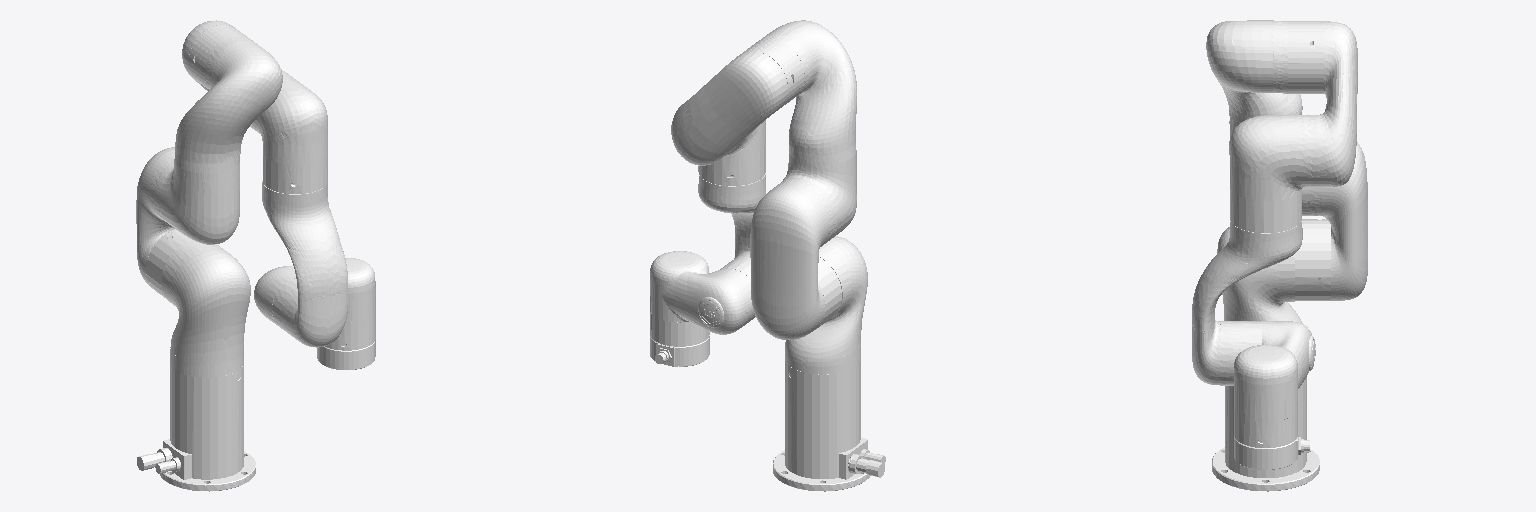
The robot description file, URDF, robot "xarm6":
<?xml version="1.0" ?>
<robot name="xarm6">
   <link name="world">
      <inertial>
         <origin xyz="0.0 0.0 0.0" rpy="0.0 0.0 0.0"/>
         <mass value="0.0"/>
         <inertia ixx="0.0" iyy="0.0" izz="0.0" ixy="0" ixz="0" iyz="0"/>
      </inertial>
   </link>
   <link name="base">
      <inertial>
         <origin xyz="0.0 0.0 0.0" rpy="0.0 0.0 0.0"/>
         <mass value="0.0"/>
         <inertia ixx="0.0" iyy="0.0" izz="0.0" ixy="0" ixz="0" iyz="0"/>
      </inertial>
   </link>
   <link name="world2base_fixed_jointbody">
      <inertial>
         <origin xyz="0.0 0.0 0.0" rpy="0.0 0.0 0.0"/>
         <mass value="0.001"/>
         <inertia ixx="1e-09" iyy="1e-09" izz="1e-09" ixy="0" ixz="0" iyz="0"/>
      </inertial>
   </link>
   <joint type="fixed" name="world2base_fixed">
      <parent link="world"/>
      <child link="world2base_fixed_jointbody"/>
      <origin xyz="0.0 0.0 0.0" rpy="0.0 0.0 0.0"/>
   </joint>
   <joint type="fixed" name="world2base_fixed_offset">
      <parent link="world2base_fixed_jointbody"/>
      <child link="base"/>
      <origin xyz="-0.0 -0.0 -0.0" rpy="0.0 0.0 0.0"/>
   </joint>
   <link name="link0">
      <inertial>
         <origin xyz="0.0 0.0 0.05" rpy="0.0 0.0 0.0"/>
         <mass value="4.0"/>
         <inertia ixx="0.4" iyy="0.4" izz="0.4" ixy="0" ixz="0" iyz="0"/>
      </inertial>
      <visual name="base">
         <origin xyz="-0.001988568020268065 0.00011251475491376964 0.06484099137569184" rpy="0.04439421331694582 0.00023003077050942622 1.5061911797633352"/>
         <geometry>
            <mesh filename="converted_base.stl"/>
         </geometry>
         <material name="white"/>
      </visual>
      <visual name="base">
         <origin xyz="-0.001988568020268065 0.00011251475491376964 0.06484099137569184" rpy="0.04439421331694582 0.00023003077050942622 1.5061911797633352"/>
         <geometry>
            <mesh filename="converted_base.stl"/>
         </geometry>
         <material name="white"/>
      </visual>
   </link>
   <link name="base2link0_fixed_jointbody">
      <inertial>
         <origin xyz="0.0 0.0 0.0" rpy="0.0 0.0 0.0"/>
         <mass value="0.001"/>
         <inertia ixx="1e-09" iyy="1e-09" izz="1e-09" ixy="0" ixz="0" iyz="0"/>
      </inertial>
   </link>
   <joint type="fixed" name="base2link0_fixed">
      <parent link="base"/>
      <child link="base2link0_fixed_jointbody"/>
      <origin xyz="0.0 0.0 0.0" rpy="0.0 0.0 0.0"/>
   </joint>
   <joint type="fixed" name="base2link0_fixed_offset">
      <parent link="base2link0_fixed_jointbody"/>
      <child link="link0"/>
      <origin xyz="-0.0 -0.0 -0.0" rpy="0.0 0.0 0.0"/>
   </joint>
   <link name="link1">
      <inertial>
         <origin xyz="-0.002 0.02692 -0.01332" rpy="0.3631509145110744 -0.018820312974206166 0.05206178979220674"/>
         <mass value="2.16"/>
         <inertia ixx="0.00539487" iyy="0.00519906" izz="0.00281397" ixy="0" ixz="0" iyz="0"/>
      </inertial>
      <visual name="link1">
         <origin xyz="-0.00013218954812539433 0.007464197279856433 -0.02711553977556827" rpy="-0.3336230093083168 0.0034678881741270207 -0.002737431020260944"/>
         <geometry>
            <mesh filename="converted_link1.stl"/>
         </geometry>
         <material name="white"/>
      </visual>
      <visual name="link1">
         <origin xyz="-0.00013218954812539433 0.007464197279856433 -0.02711553977556827" rpy="-0.3336230093083168 0.0034678881741270207 -0.002737431020260944"/>
         <geometry>
            <mesh filename="converted_link1.stl"/>
         </geometry>
         <material name="white"/>
      </visual>
   </link>
   <link name="joint1_jointbody">
      <inertial>
         <origin xyz="0.0 0.0 0.0" rpy="0.0 0.0 0.0"/>
         <mass value="0.001"/>
         <inertia ixx="1e-09" iyy="1e-09" izz="1e-09" ixy="0" ixz="0" iyz="0"/>
      </inertial>
   </link>
   <joint type="revolute" name="joint1">
      <parent link="link0"/>
      <child link="joint1_jointbody"/>
      <origin xyz="0.0 0.0 0.267" rpy="0.0 0.0 0.0"/>
      <axis xyz="0.0 0.0 1.0"/>
      <limit lower="-0.10966235302838252" upper="0.10966235302838252" effort="100" velocity="100"/>
   </joint>
   <joint type="fixed" name="joint1_offset">
      <parent link="joint1_jointbody"/>
      <child link="link1"/>
      <origin xyz="-0.0 -0.0 -0.0" rpy="0.0 0.0 0.0"/>
   </joint>
   <link name="link2">
      <inertial>
         <origin xyz="0.03531 -0.21398 0.03386" rpy="1.3158572697108033 0.6206151550739589 -0.33896923320256633"/>
         <mass value="1.71"/>
         <inertia ixx="0.017867" iyy="0.017867" izz="0.017867" ixy="0" ixz="0" iyz="0"/>
      </inertial>
      <visual name="link2">
         <origin xyz="0.014875566187991445 -0.16194855468132002 0.02964404368210932" rpy="1.9174384122134032 0.3390205710115355 0.2968760087267537"/>
         <geometry>
            <mesh filename="converted_link2.stl"/>
         </geometry>
         <material name="white"/>
      </visual>
      <visual name="link2">
         <origin xyz="0.014875566187991445 -0.16194855468132002 0.02964404368210932" rpy="1.9174384122134032 0.3390205710115355 0.2968760087267537"/>
         <geometry>
            <mesh filename="converted_link2.stl"/>
         </geometry>
         <material name="white"/>
      </visual>
   </link>
   <link name="joint2_jointbody">
      <inertial>
         <origin xyz="0.0 0.0 0.0" rpy="0.0 0.0 0.0"/>
         <mass value="0.001"/>
         <inertia ixx="1e-09" iyy="1e-09" izz="1e-09" ixy="0" ixz="0" iyz="0"/>
      </inertial>
   </link>
   <joint type="revolute" name="joint2">
      <parent link="link1"/>
      <child link="joint2_jointbody"/>
      <origin xyz="0.0 0.0 0.0" rpy="-1.5708005694372709 0.0 0.0"/>
      <axis xyz="0.0 0.0 1.0"/>
      <limit lower="-0.03593632929856325" upper="0.03655417585376924" effort="100" velocity="100"/>
   </joint>
   <joint type="fixed" name="joint2_offset">
      <parent link="joint2_jointbody"/>
      <child link="link2"/>
      <origin xyz="-0.0 -0.0 -0.0" rpy="0.0 0.0 0.0"/>
   </joint>
   <link name="link3">
      <inertial>
         <origin xyz="0.06781 0.10749 0.01457" rpy="-2.1198869036992574 -0.6527088677368611 -2.5005766463554386"/>
         <mass value="1.384"/>
         <inertia ixx="0.004543" iyy="0.004543" izz="0.004543" ixy="0" ixz="0" iyz="0"/>
      </inertial>
      <visual name="link3">
         <origin xyz="0.05915374366666802 0.07651418456626077 0.04021116008138051" rpy="0.9997568989372843 0.1766060258401485 -0.6619722856298305"/>
         <geometry>
            <mesh filename="converted_link3.stl"/>
         </geometry>
         <material name="white"/>
      </visual>
      <visual name="link3">
         <origin xyz="0.05915374366666802 0.07651418456626077 0.04021116008138051" rpy="0.9997568989372843 0.1766060258401485 -0.6619722856298305"/>
         <geometry>
            <mesh filename="converted_link3.stl"/>
         </geometry>
         <material name="white"/>
      </visual>
   </link>
   <link name="joint3_jointbody">
      <inertial>
         <origin xyz="0.0 0.0 0.0" rpy="0.0 0.0 0.0"/>
         <mass value="0.001"/>
         <inertia ixx="1e-09" iyy="1e-09" izz="1e-09" ixy="0" ixz="0" iyz="0"/>
      </inertial>
   </link>
   <joint type="revolute" name="joint3">
      <parent link="link2"/>
      <child link="joint3_jointbody"/>
      <origin xyz="0.0535 -0.2845 0.0" rpy="0.0 0.0 0.0"/>
      <axis xyz="0.0 0.0 1.0"/>
      <limit lower="-0.06853907972581733" upper="0.0033506830979787143" effort="100" velocity="100"/>
   </joint>
   <joint type="fixed" name="joint3_offset">
      <parent link="joint3_jointbody"/>
      <child link="link3"/>
      <origin xyz="-0.0 -0.0 -0.0" rpy="0.0 0.0 0.0"/>
   </joint>
   <link name="link4">
      <inertial>
         <origin xyz="-0.00021 0.02578 -0.02538" rpy="0.14913014384183226 -0.025522327167754044 0.15638006704745994"/>
         <mass value="1.115"/>
         <inertia ixx="0.00440091" iyy="0.00406855" izz="0.00103407" ixy="0" ixz="0" iyz="0"/>
      </inertial>
      <visual name="link4">
         <origin xyz="-0.0001933115420370148 0.031599603176915084 -0.07229682669267906" rpy="-0.2899363380198844 0.004123601154868206 0.015988586424917905"/>
         <geometry>
            <mesh filename="converted_link4.stl"/>
         </geometry>
         <material name="white"/>
      </visual>
      <visual name="link4">
         <origin xyz="-0.0001933115420370148 0.031599603176915084 -0.07229682669267906" rpy="-0.2899363380198844 0.004123601154868206 0.015988586424917905"/>
         <geometry>
            <mesh filename="converted_link4.stl"/>
         </geometry>
         <material name="white"/>
      </visual>
   </link>
   <link name="joint4_jointbody">
      <inertial>
         <origin xyz="0.0 0.0 0.0" rpy="0.0 0.0 0.0"/>
         <mass value="0.001"/>
         <inertia ixx="1e-09" iyy="1e-09" izz="1e-09" ixy="0" ixz="0" iyz="0"/>
      </inertial>
   </link>
   <joint type="revolute" name="joint4">
      <parent link="link3"/>
      <child link="joint4_jointbody"/>
      <origin xyz="0.0775 0.3425 0.0" rpy="-1.5708005694372709 0.0 0.0"/>
      <axis xyz="0.0 0.0 1.0"/>
      <limit lower="-0.10966235302838252" upper="0.10966235302838252" effort="100" velocity="100"/>
   </joint>
   <joint type="fixed" name="joint4_offset">
      <parent link="joint4_jointbody"/>
      <child link="link4"/>
      <origin xyz="-0.0 -0.0 -0.0" rpy="0.0 0.0 0.0"/>
   </joint>
   <link name="link5">
      <inertial>
         <origin xyz="0.05428 0.01781 0.00543" rpy="-1.2155992243948677 -1.005984104795635 -2.211171480165424"/>
         <mass value="1.275"/>
         <inertia ixx="0.00289757" iyy="0.0023276" izz="0.000951789" ixy="0" ixz="0" iyz="0"/>
      </inertial>
      <visual name="link5">
         <origin xyz="0.048892960928717207 0.011180520389591274 0.009056193467818132" rpy="-2.938968983231587 -1.2804430518525276 0.09467892860533289"/>
         <geometry>
            <mesh filename="converted_link5.stl"/>
         </geometry>
         <material name="white"/>
      </visual>
      <visual name="link5">
         <origin xyz="0.048892960928717207 0.011180520389591274 0.009056193467818132" rpy="-2.938968983231587 -1.2804430518525276 0.09467892860533289"/>
         <geometry>
            <mesh filename="converted_link5.stl"/>
         </geometry>
         <material name="white"/>
      </visual>
   </link>
   <link name="joint5_jointbody">
      <inertial>
         <origin xyz="0.0 0.0 0.0" rpy="0.0 0.0 0.0"/>
         <mass value="0.001"/>
         <inertia ixx="1e-09" iyy="1e-09" izz="1e-09" ixy="0" ixz="0" iyz="0"/>
      </inertial>
   </link>
   <joint type="revolute" name="joint5">
      <parent link="link4"/>
      <child link="joint5_jointbody"/>
      <origin xyz="0.0 0.0 0.0" rpy="1.5708005694372709 0.0 0.0"/>
      <axis xyz="0.0 0.0 1.0"/>
      <limit lower="-0.0295479006374884" upper="0.05483108924772866" effort="100" velocity="100"/>
   </joint>
   <joint type="fixed" name="joint5_offset">
      <parent link="joint5_jointbody"/>
      <child link="link5"/>
      <origin xyz="-0.0 -0.0 -0.0" rpy="0.0 0.0 0.0"/>
   </joint>
   <link name="link6">
      <inertial>
         <origin xyz="0.0 0.00064 -0.00952" rpy="3.141592653589793 -1.5707963267948963 0.0"/>
         <mass value="0.1096"/>
         <inertia ixx="7.9715e-05" iyy="4.8111e-05" izz="4.5293e-05" ixy="0" ixz="0" iyz="0"/>
      </inertial>
      <visual name="link6">
         <origin xyz="3.7439145434449306e-05 -0.0011527370991205998 -0.013456044378598256" rpy="-2.8536856173312444 -1.5674605859929096 -1.8720961229544513"/>
         <geometry>
            <mesh filename="converted_link6.stl"/>
         </geometry>
         <material name="white"/>
      </visual>
      <visual name="link6">
         <origin xyz="3.7439145434449306e-05 -0.0011527370991205998 -0.013456044378598256" rpy="-2.8536856173312444 -1.5674605859929096 -1.8720961229544513"/>
         <geometry>
            <mesh filename="converted_link6.stl"/>
         </geometry>
         <material name="white"/>
      </visual>
   </link>
   <link name="joint6_jointbody">
      <inertial>
         <origin xyz="0.0 0.0 0.0" rpy="0.0 0.0 0.0"/>
         <mass value="0.001"/>
         <inertia ixx="1e-09" iyy="1e-09" izz="1e-09" ixy="0" ixz="0" iyz="0"/>
      </inertial>
   </link>
   <joint type="revolute" name="joint6">
      <parent link="link5"/>
      <child link="joint6_jointbody"/>
      <origin xyz="0.076 0.097 0.0" rpy="-1.5708005694372709 0.0 0.0"/>
      <axis xyz="0.0 0.0 1.0"/>
      <limit lower="-0.10966235302838252" upper="0.10966235302838252" effort="100" velocity="100"/>
   </joint>
   <joint type="fixed" name="joint6_offset">
      <parent link="joint6_jointbody"/>
      <child link="link6"/>
      <origin xyz="-0.0 -0.0 -0.0" rpy="0.0 0.0 0.0"/>
   </joint>
   <link name="right_hand">
      <inertial>
         <origin xyz="0.0 0.0 0.0" rpy="0.0 0.0 0.0"/>
         <mass value="0.0"/>
         <inertia ixx="0.0" iyy="0.0" izz="0.0" ixy="0" ixz="0" iyz="0"/>
      </inertial>
   </link>
   <link name="link62right_hand_fixed_jointbody">
      <inertial>
         <origin xyz="0.0 0.0 0.0" rpy="0.0 0.0 0.0"/>
         <mass value="0.001"/>
         <inertia ixx="1e-09" iyy="1e-09" izz="1e-09" ixy="0" ixz="0" iyz="0"/>
      </inertial>
   </link>
   <joint type="fixed" name="link62right_hand_fixed">
      <parent link="link6"/>
      <child link="link62right_hand_fixed_jointbody"/>
      <origin xyz="0.0 0.0 0.0" rpy="0.0 0.0 0.0"/>
   </joint>
   <joint type="fixed" name="link62right_hand_fixed_offset">
      <parent link="link62right_hand_fixed_jointbody"/>
      <child link="right_hand"/>
      <origin xyz="-0.0 -0.0 -0.0" rpy="0.0 0.0 0.0"/>
   </joint>
   <material name="white">
      <color rgba="1 1 1 1"/>
   </material>
</robot>

--- What the picture shows (computed from the rendered views, not written in the file) ---
Views: 3 orthographic renders of the robot side by side, from view 1: azimuth 30°, elevation 25°; view 2: azimuth 150°, elevation 25°; view 3: azimuth 270°, elevation 25°.
Robot: xarm6 — 19 links, 18 joints (6 revolute, 12 fixed); root link world; default pose: all joints at 0.
Visible links, largest first — view 1: link2, link1, link0, link4, link3, link5, link6; view 2: link2, link3, link0, link5, link1, link4, link6; view 3: link2, link3, link5, link4, link1, link0, link6.
Boxes of the visible links, bbox=[...] form: link2: bbox=[136, 25, 282, 288]; link1: bbox=[146, 229, 250, 377]; link0: bbox=[137, 364, 255, 491]; link4: bbox=[262, 180, 347, 347]; link3: bbox=[182, 20, 327, 193]; link5: bbox=[254, 258, 375, 350]; link6: bbox=[317, 339, 375, 369]; link2: bbox=[743, 20, 856, 339]; link3: bbox=[671, 51, 787, 185]; link0: bbox=[773, 361, 885, 491]; link5: bbox=[650, 251, 754, 346]; link1: bbox=[785, 236, 867, 374]; link4: bbox=[698, 173, 765, 316]; link6: bbox=[650, 335, 709, 366]; link2: bbox=[1206, 20, 1367, 300]; link3: bbox=[1230, 21, 1357, 232]; link5: bbox=[1234, 321, 1315, 447]; link4: bbox=[1192, 221, 1302, 385]; link1: bbox=[1217, 219, 1330, 323]; link0: bbox=[1212, 377, 1319, 491]; link6: bbox=[1234, 437, 1309, 469].
Bounding box of the posed robot: 0.3368 × 0.2052 × 0.5944 m (x, y, z).
14 mesh visuals loaded from 7 distinct referenced files (7 binary STL).